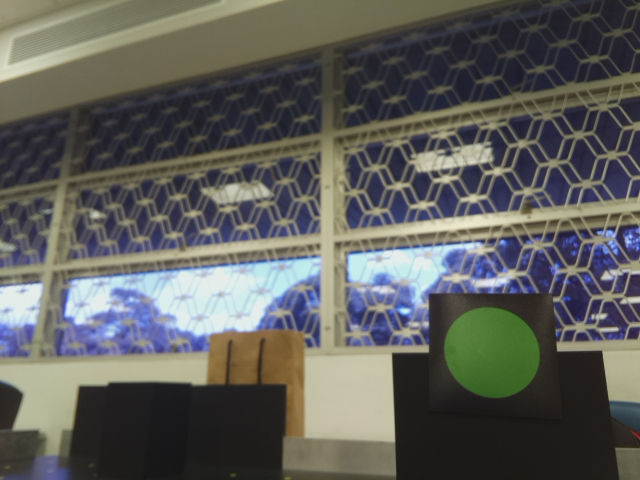go: (443, 299, 546, 407)
